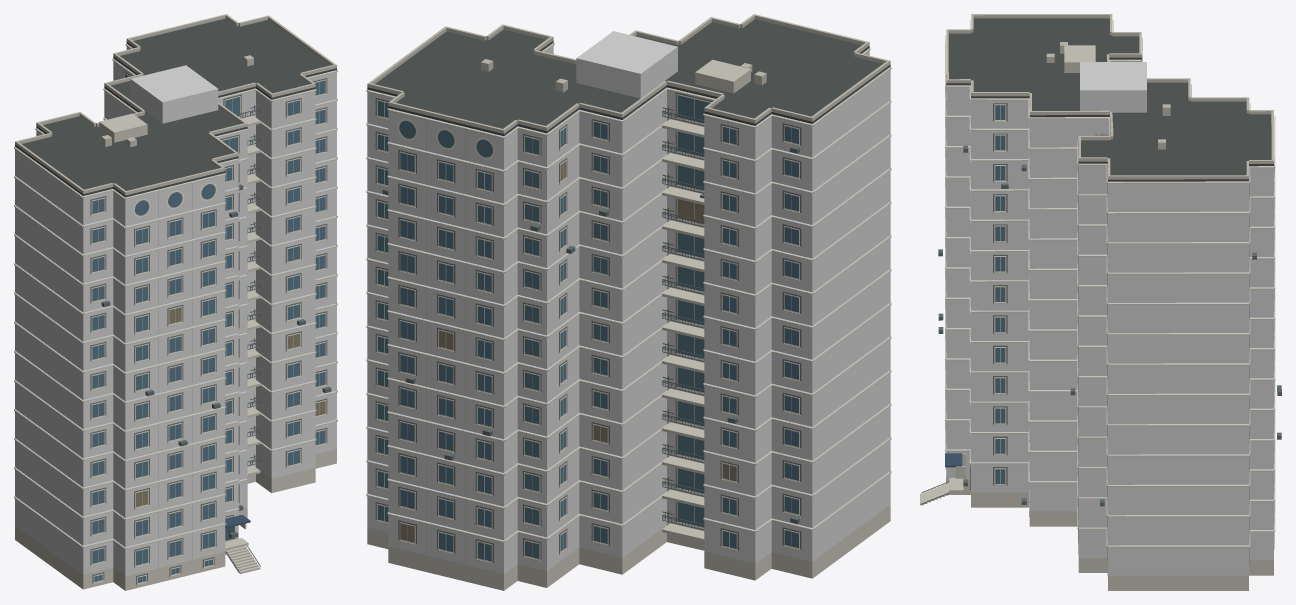
The model's file is building.glb.
3 views of the same model, side by side, from view 1: azimuth 30°, elevation 25°; view 2: azimuth 150°, elevation 25°; view 3: azimuth 270°, elevation 25° (orthographic). The views are drawn at different scales.
Visible parts, largest first — view 1: Irregular roof membrane, Floor_13, Floor_08, Floor_02, Floor_04, Floor_09, Floor_11, Floor_05, Floor_10, Floor_03, Floor_07, Floor_12 (+56 smaller); view 2: Irregular roof membrane, Floor_13, Floor_12, Floor_07, Floor_08, Floor_03, Floor_09, Floor_01, Floor_10, Floor_06, Floor_04, Floor_02 (+57 smaller); view 3: Irregular roof membrane, Floor_13, Floor_07, Floor_10, Floor_04, Floor_03, Floor_06, Floor_09, Floor_12, Floor_05, Floor_08, Floor_02 (+19 smaller).
Boxes of the visible parts, x1,y1,x2,y2 form: Irregular roof membrane: (15, 18, 336, 197); Floor_13: (15, 44, 336, 226); Floor_08: (15, 216, 336, 372); Floor_02: (15, 391, 336, 547); Floor_04: (15, 332, 336, 488); Floor_09: (15, 187, 336, 342); Floor_11: (15, 128, 336, 284); Floor_05: (15, 303, 336, 459); Floor_10: (15, 158, 336, 313); Floor_03: (15, 362, 336, 517); Floor_07: (15, 245, 336, 401); Floor_12: (15, 99, 336, 255); Irregular roof membrane: (367, 19, 890, 136); Floor_13: (367, 43, 890, 169); Floor_12: (367, 101, 890, 203); Floor_07: (367, 269, 890, 371); Floor_08: (367, 235, 890, 338); Floor_03: (367, 404, 890, 506); Floor_09: (367, 202, 890, 304); Floor_01: (367, 471, 890, 573); Floor_10: (367, 168, 890, 270); Floor_06: (367, 303, 890, 405); Floor_04: (367, 370, 890, 472); Floor_02: (367, 438, 890, 540); Irregular roof membrane: (946, 18, 1273, 181); Floor_13: (946, 59, 1273, 211); Floor_07: (946, 267, 1273, 393); Floor_10: (946, 176, 1273, 302); Floor_04: (946, 358, 1273, 484); Floor_03: (946, 388, 1273, 515); Floor_06: (946, 297, 1273, 424); Floor_09: (946, 206, 1273, 333); Floor_12: (946, 115, 1273, 242); Floor_05: (946, 328, 1273, 454); Floor_08: (946, 237, 1273, 363); Floor_02: (946, 419, 1273, 545).
Size of the model in its own units: 34.67 by 42.9 by 32.43.
